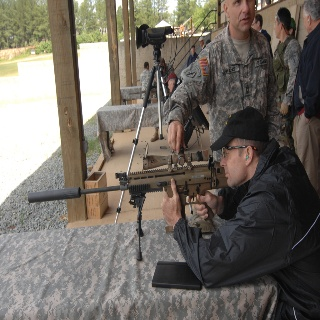rifle: (26, 150, 227, 261)
